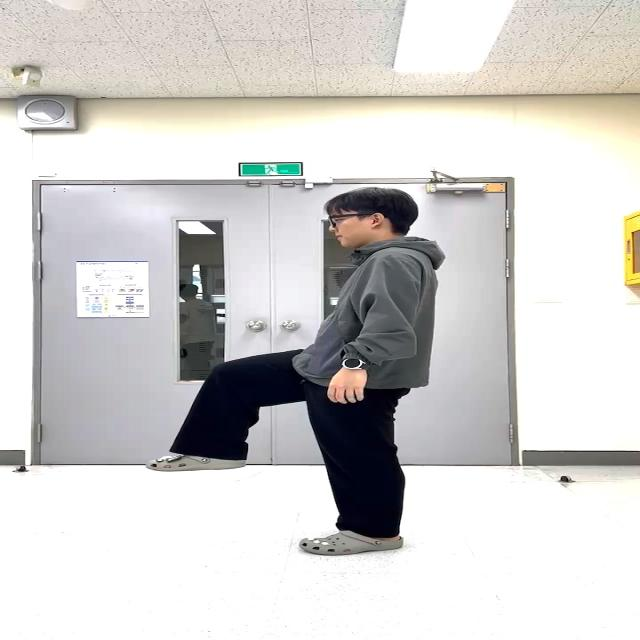knee: (206, 356, 278, 389)
leg: (145, 349, 305, 471), (299, 380, 407, 554)
